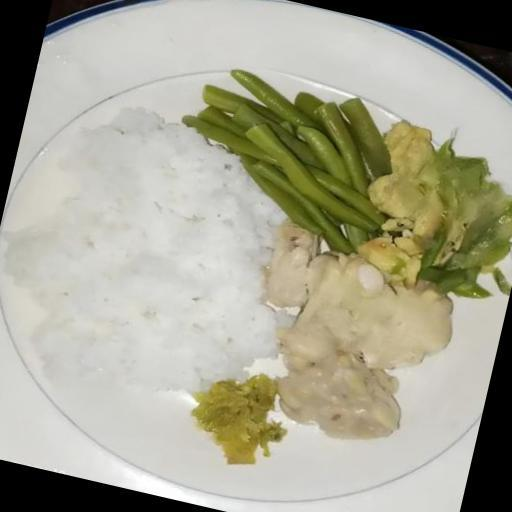buncis_rebus: (166, 30, 408, 204)
nasi_putih: (0, 113, 281, 415)
